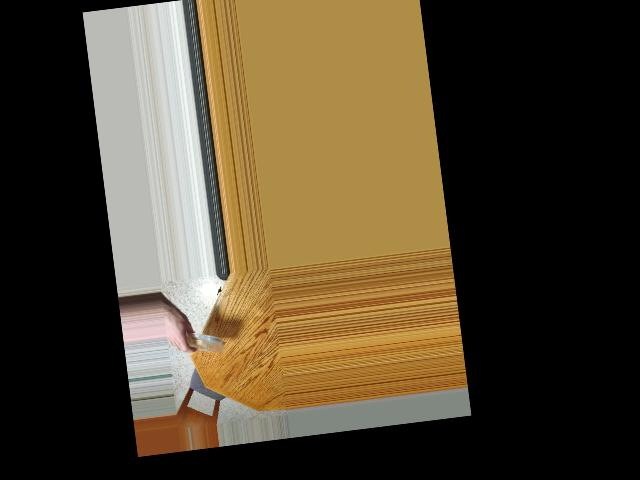cheese: (185, 327, 220, 359)
